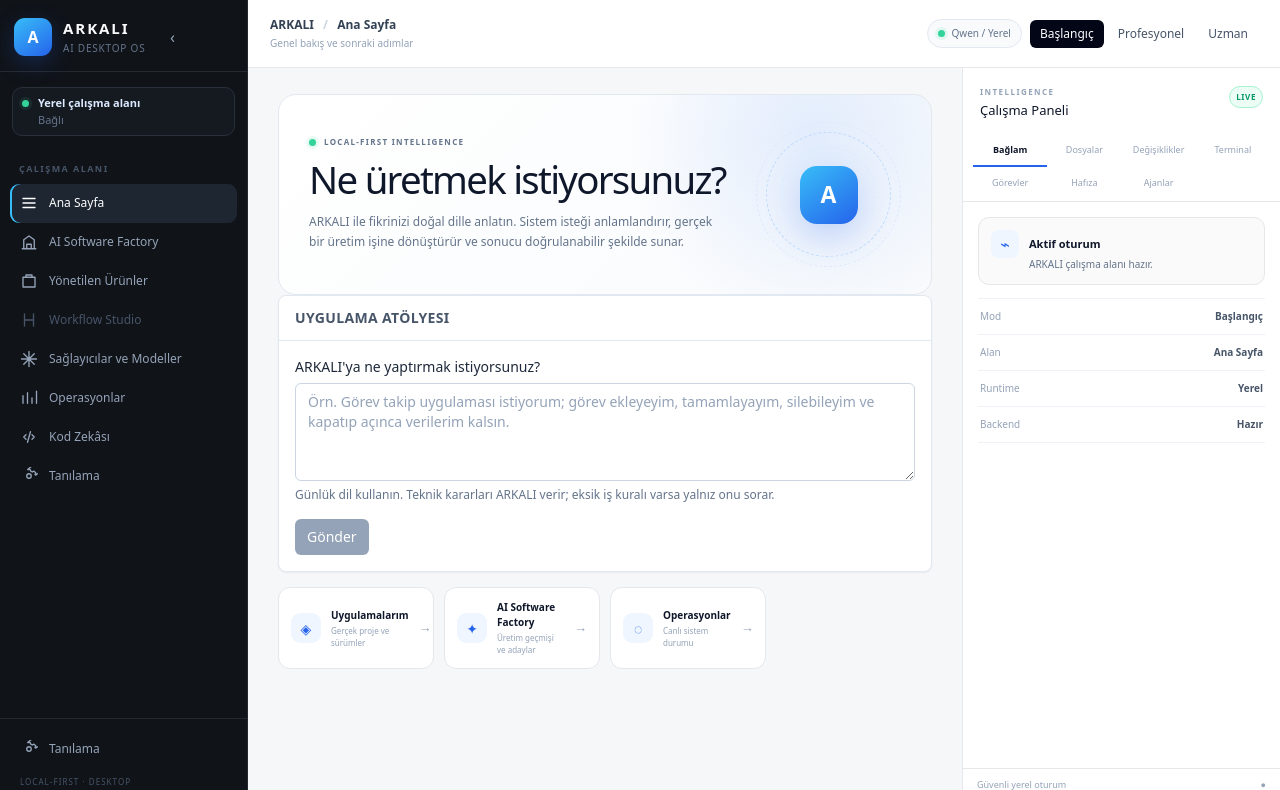
Scenario: Visual Workflow Studio page › composes a node from the palette and publishes it as a revision
Click the button "Uzman": (1228, 34) x1=1198 y1=20 x2=1258 y2=48
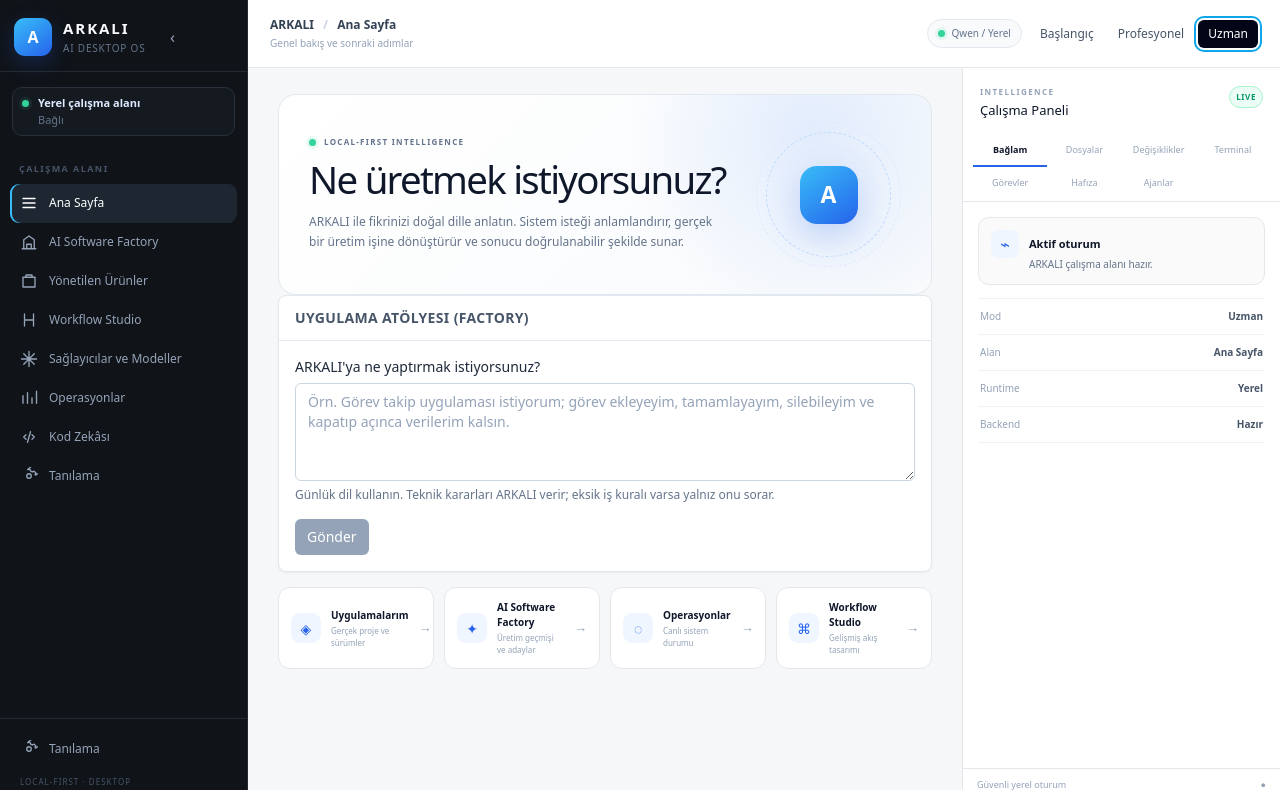
Click the button "Workflow Studio": (124, 320) x1=10 y1=300 x2=237 y2=340
(page scrolled)
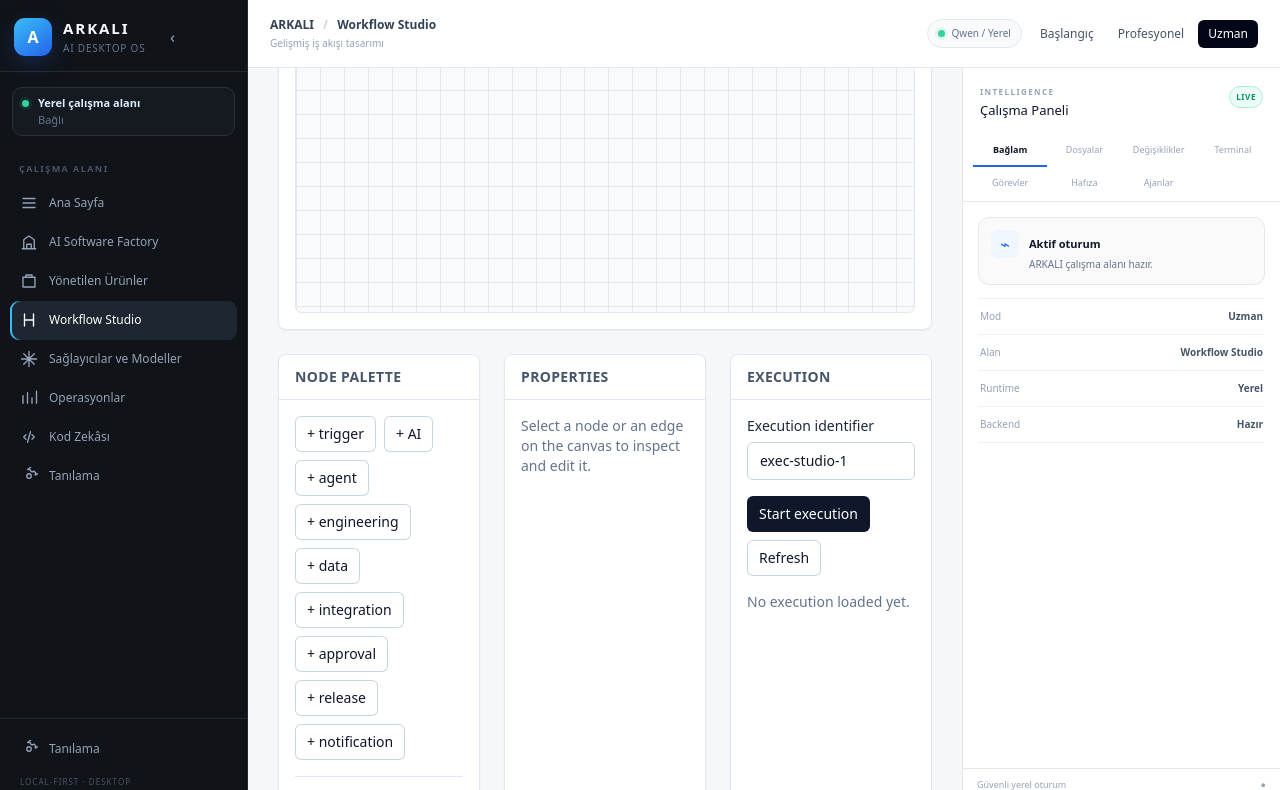
Click the button "+ trigger": (336, 434) x1=295 y1=416 x2=376 y2=452
(page scrolled)
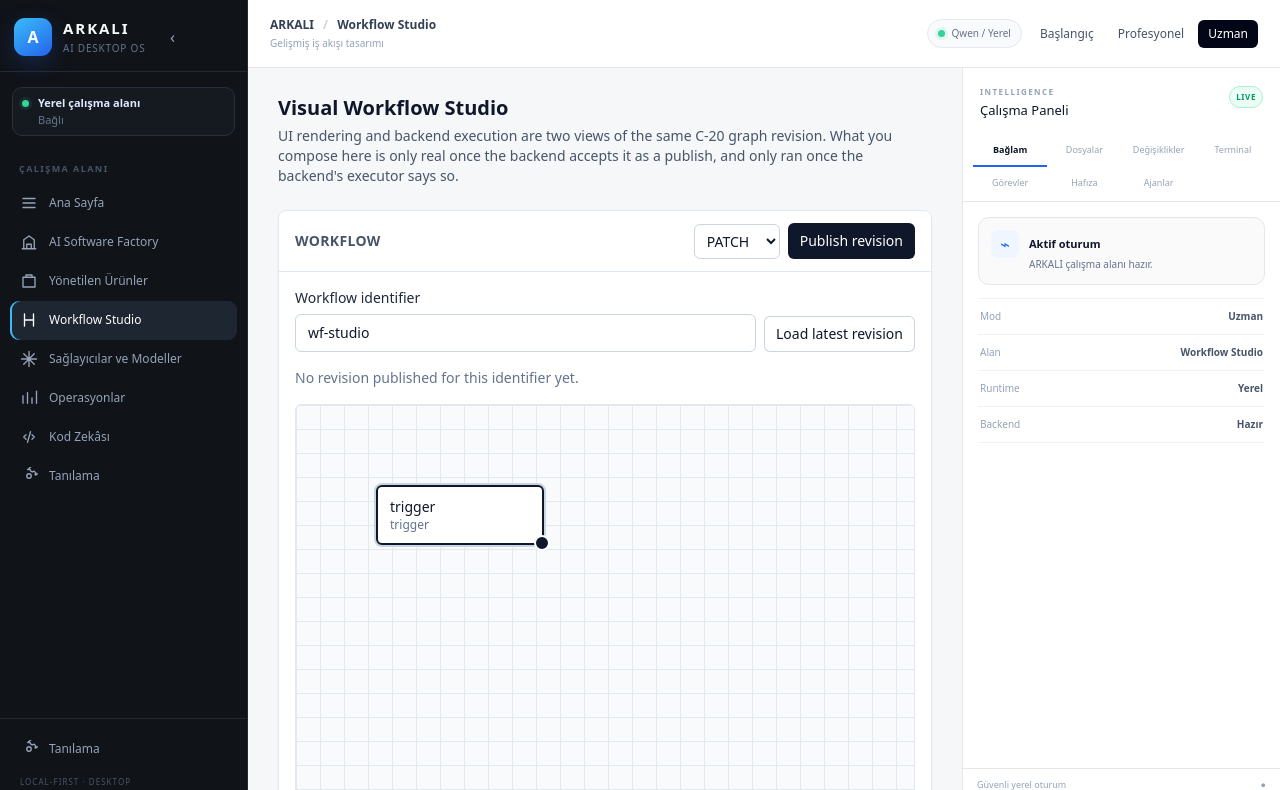
Click the button "Publish revision": (851, 241) x1=788 y1=223 x2=915 y2=259
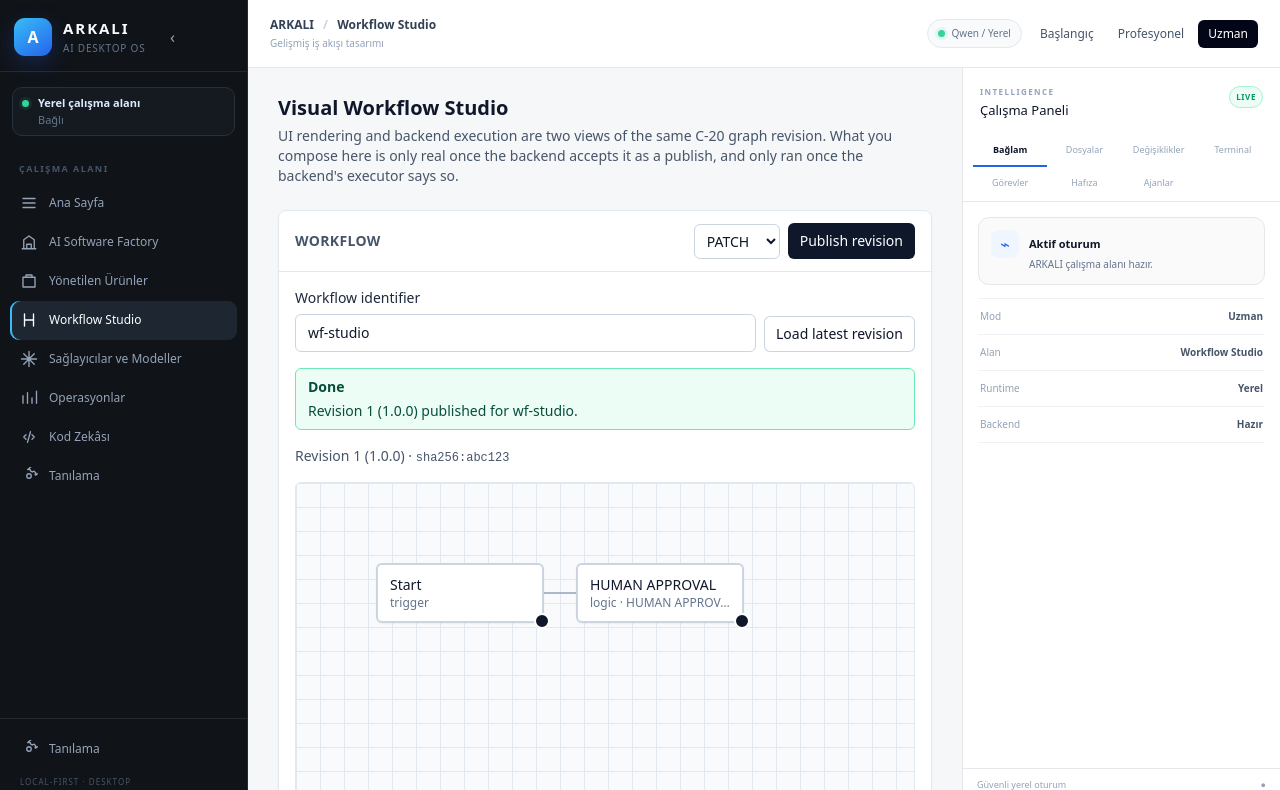
Check: the text "trigger" is shown, box x1=390 y1=594 x2=429 y2=611
Check: the text "Revision 1 (1.0.0) published for wf-studio." is shown, box x1=308 y1=401 x2=578 y2=420
